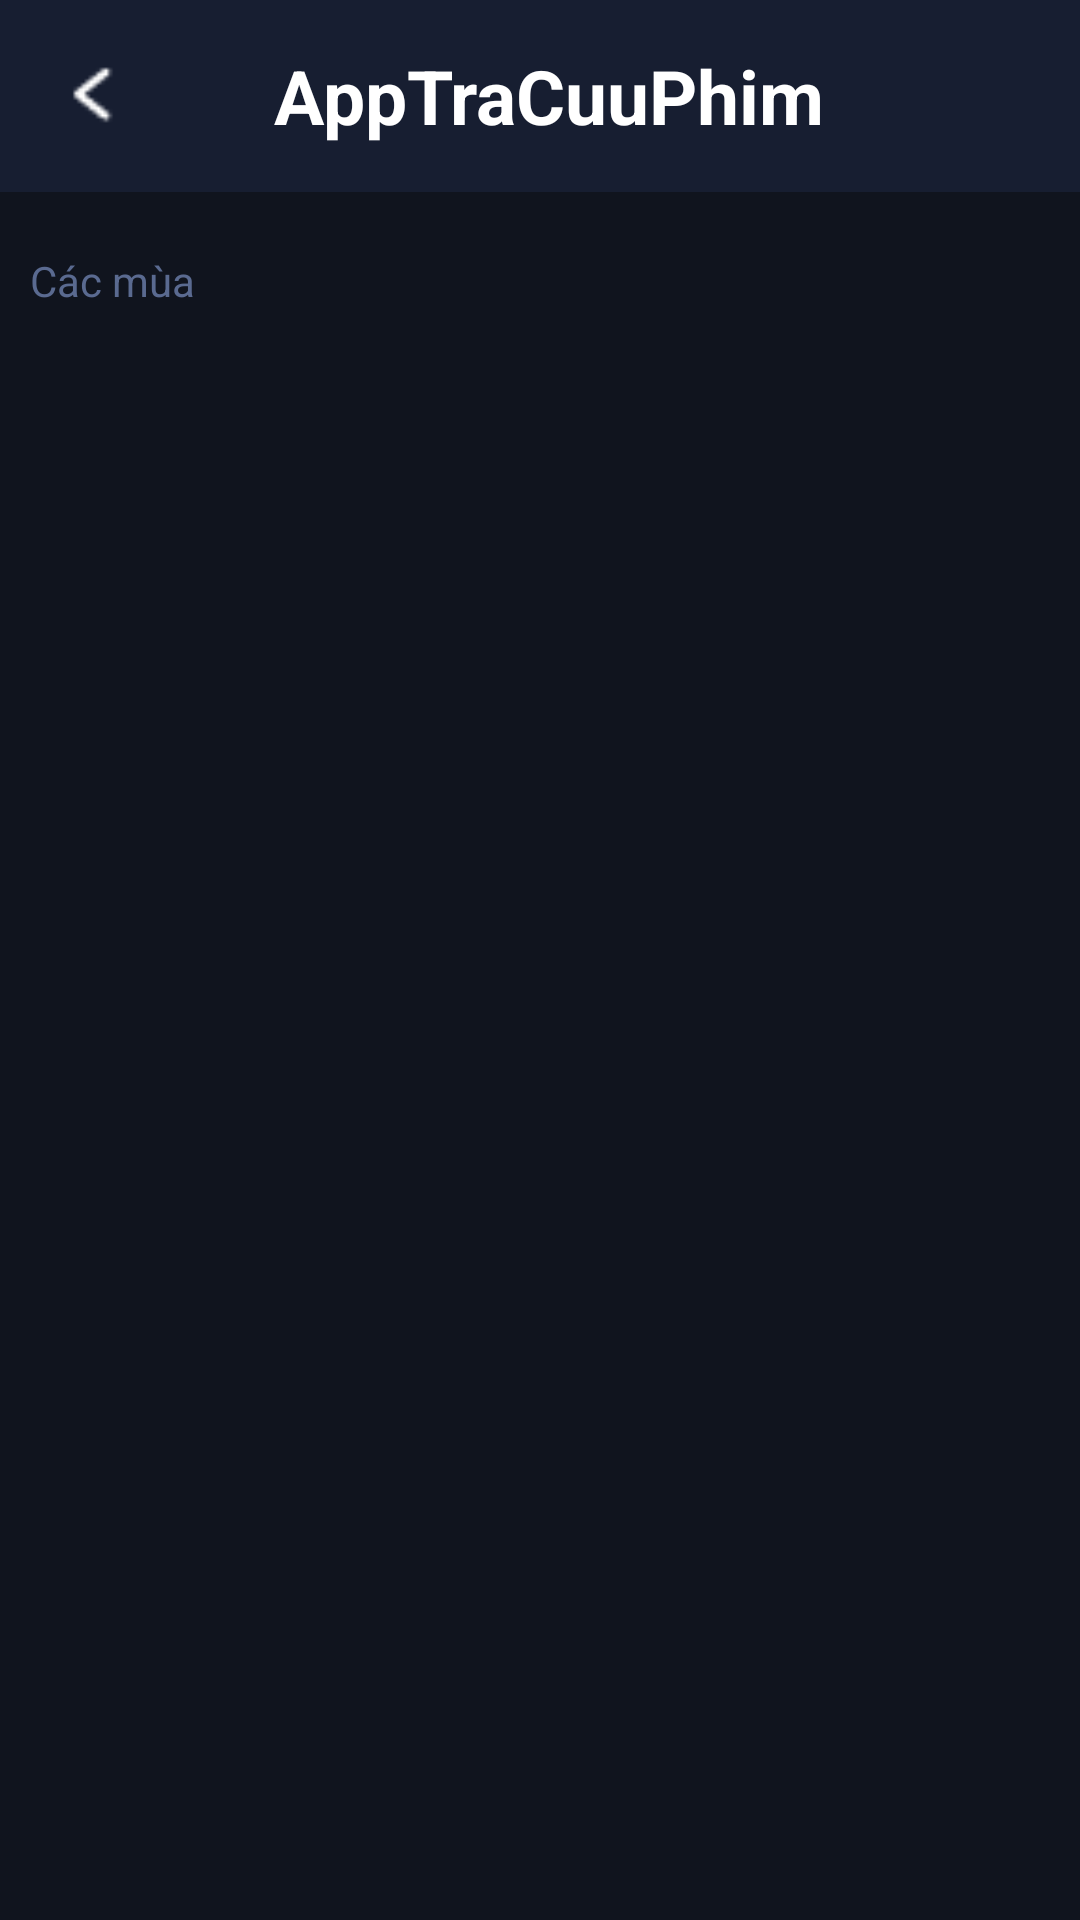

Screen size 1080*1920. Icon name, then its center in pixels as [x,y]:
arrow left: [92,94]
